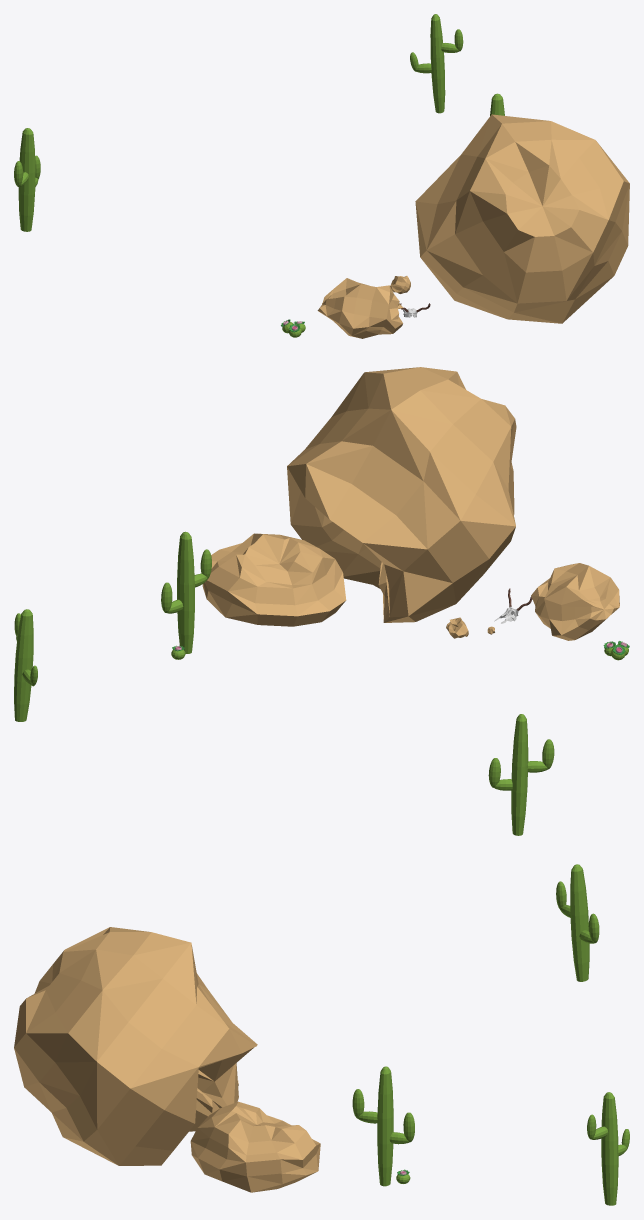
The picture shows the model from 3 angles, top to bottom: view 1: azimuth 30°, elevation 25°; view 2: azimuth 150°, elevation 25°; view 3: azimuth 270°, elevation 25°; orthographic projection. The views are drawn at different scales.
Parts seen in each view (by area): view 1: node_MeshObject592758528-PolyPaper20, node_MeshObject989614464-PolyPaper9; view 2: node_MeshObject592758528-PolyPaper20, node_MeshObject989614464-PolyPaper9; view 3: node_MeshObject592758528-PolyPaper20, node_MeshObject989614464-PolyPaper9.
Boxes of the visible parts, x1,y1,x2,y2 form: node_MeshObject592758528-PolyPaper20: [281, 114, 629, 338]; node_MeshObject989614464-PolyPaper9: [14, 14, 504, 332]; node_MeshObject592758528-PolyPaper20: [202, 367, 628, 660]; node_MeshObject989614464-PolyPaper9: [14, 531, 629, 835]; node_MeshObject592758528-PolyPaper20: [14, 927, 320, 1192]; node_MeshObject989614464-PolyPaper9: [237, 864, 629, 1205].
Bounding box in the file's own units: 9.29 × 3.5 × 9.7.
